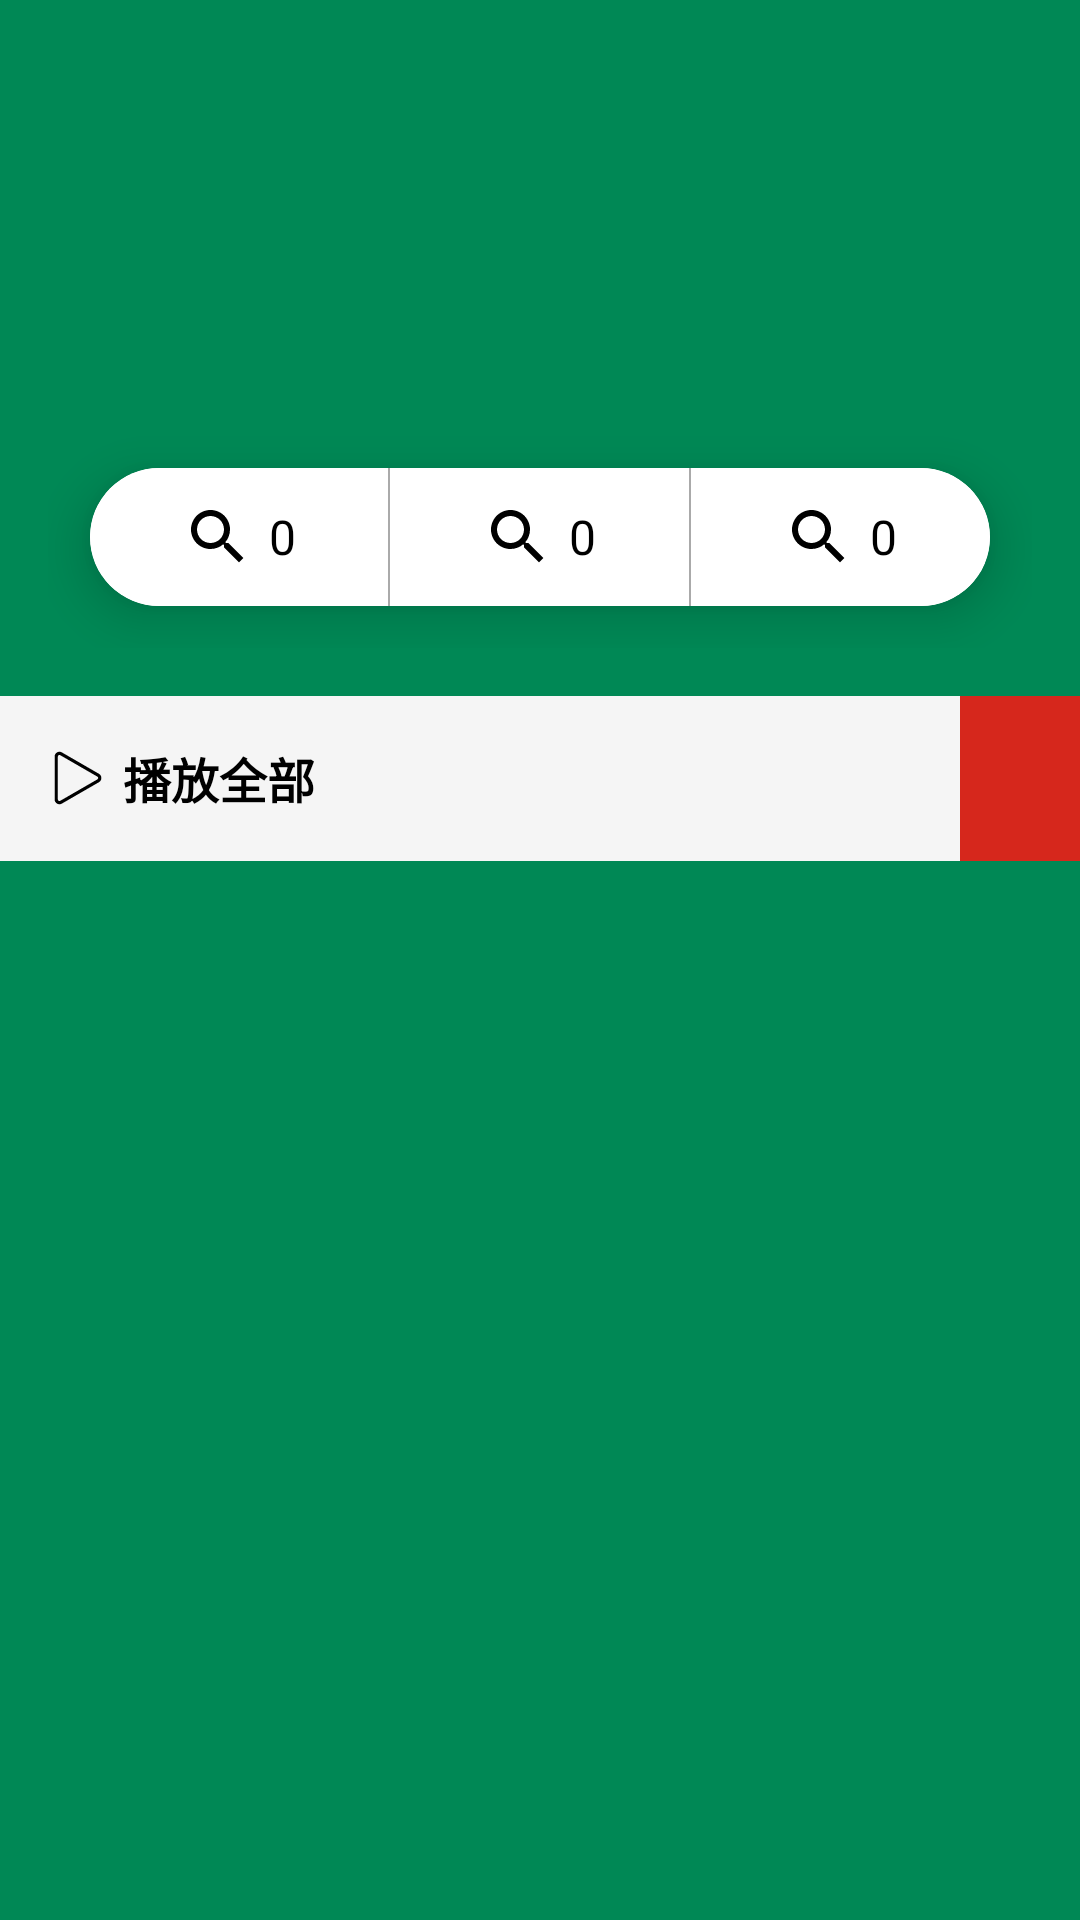

Icon bounding boxes for this 1080w x 1920h phone screenshot, format (x1, y1, x2, y2):
search on surface: (191, 510, 243, 562), (491, 510, 543, 562), (792, 510, 844, 562)
